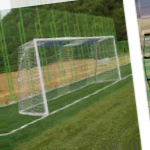goals: (15, 33, 124, 120)
